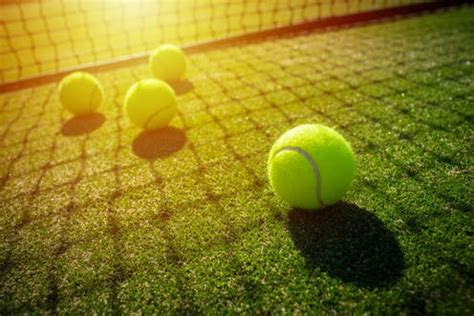tennis_ball: (266, 122, 356, 210), (125, 78, 177, 132), (58, 71, 103, 115), (149, 44, 186, 81)
